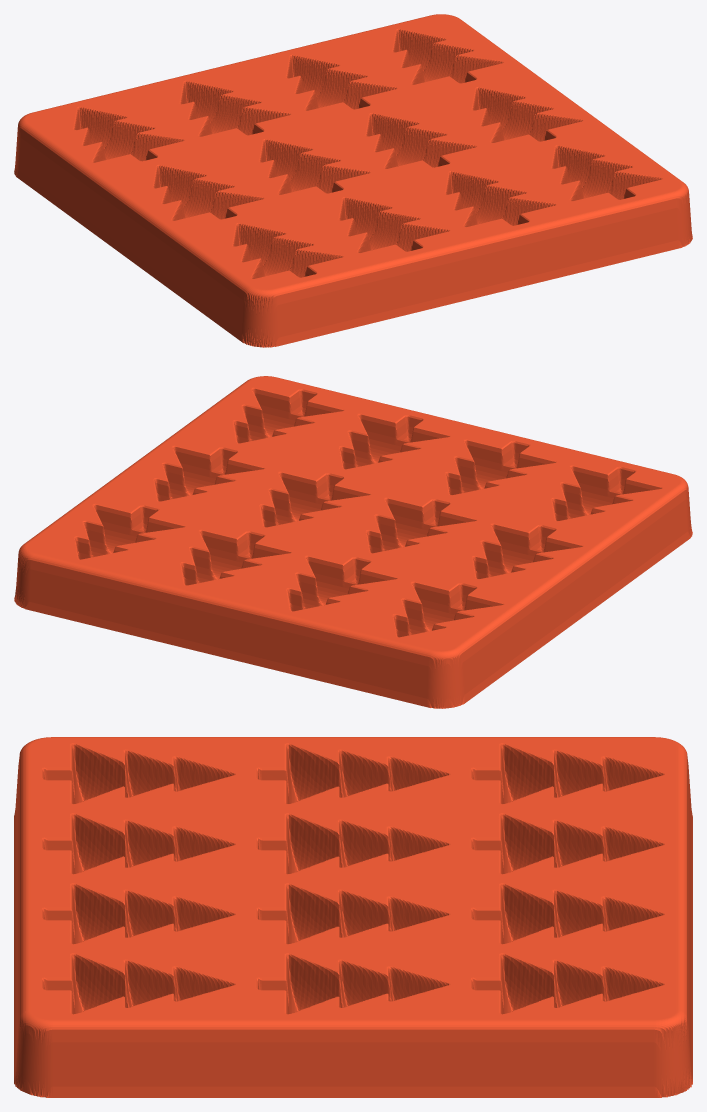
Rendered from mold.glb.
3 renders of one model, top to bottom at view 1: azimuth 30°, elevation 25°; view 2: azimuth 150°, elevation 25°; view 3: azimuth 270°, elevation 25°, orthographic. The views are drawn at different scales.
Visible parts, largest first — view 1: geometry_0; view 2: geometry_0; view 3: geometry_0.
Part boxes in pixels (x1=…): geometry_0: x1=14, y1=14, x2=692, y2=347; geometry_0: x1=14, y1=376, x2=692, y2=708; geometry_0: x1=14, y1=737, x2=692, y2=1097.
Size of the model in its own units: 0.1643 by 0.0185 by 0.1598.
